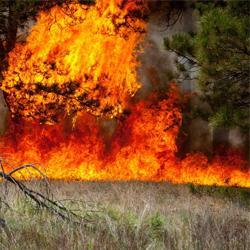fire: (41, 7, 123, 88), (23, 150, 176, 182)
